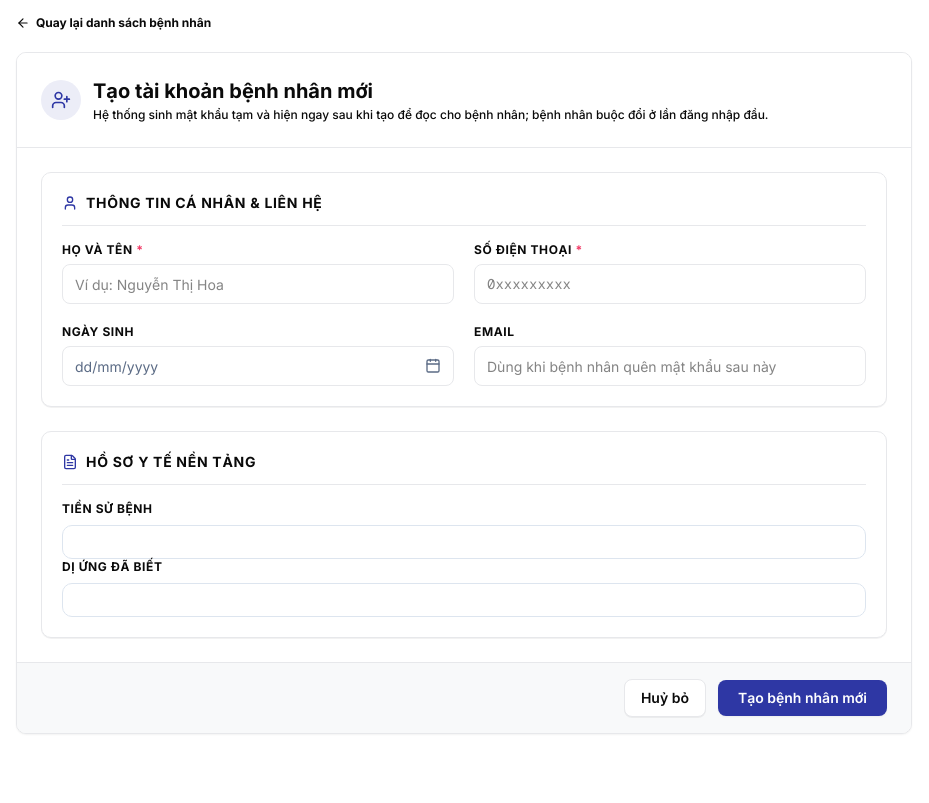
Test: PatientAccountForm › chặn gửi khi số điện thoại sai định dạng
Type "Lê Thị Hoa" into the field labelled "Họ và tên *".
click(258, 284); type("Lê Thị Hoa")  # box 62,264 -> 454,304
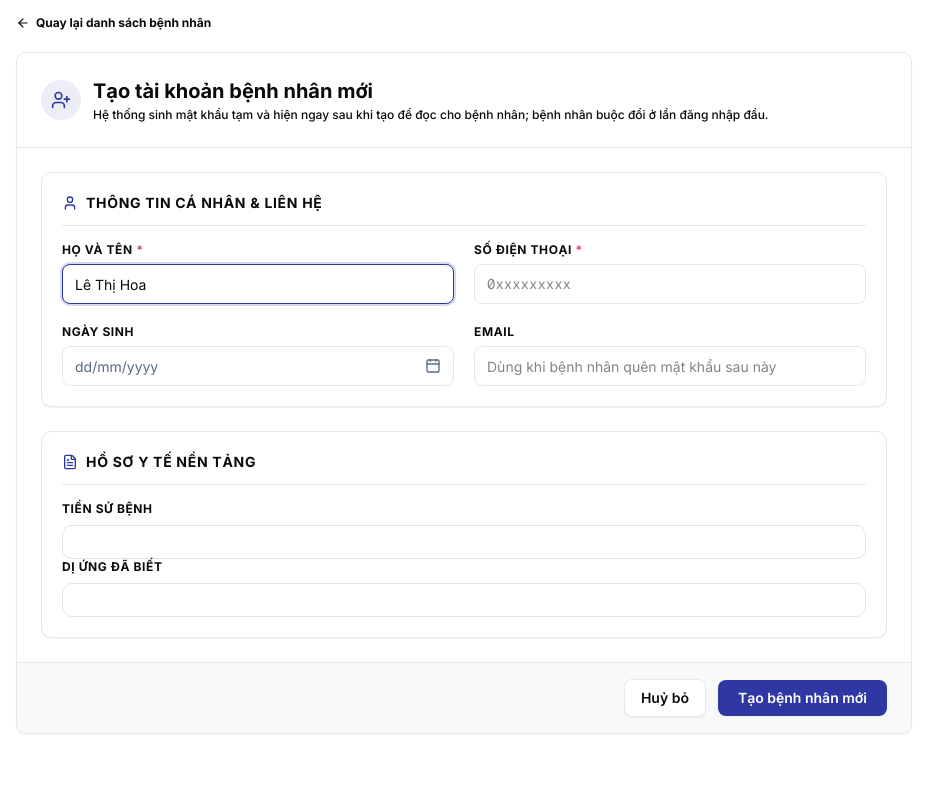
Type "123" into the field labelled "Số điện thoại *".
click(670, 284); type("123")  # box 474,264 -> 866,304
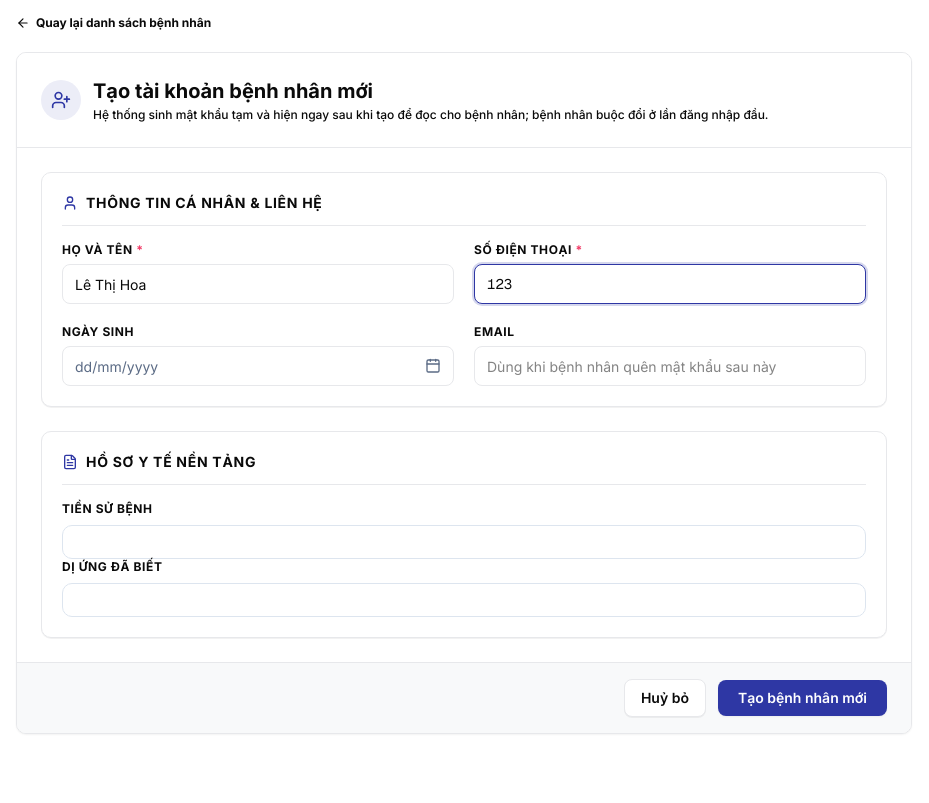
Click the button "Tạo bệnh nhân mới".
click(802, 698)  # box 718,680 -> 887,716
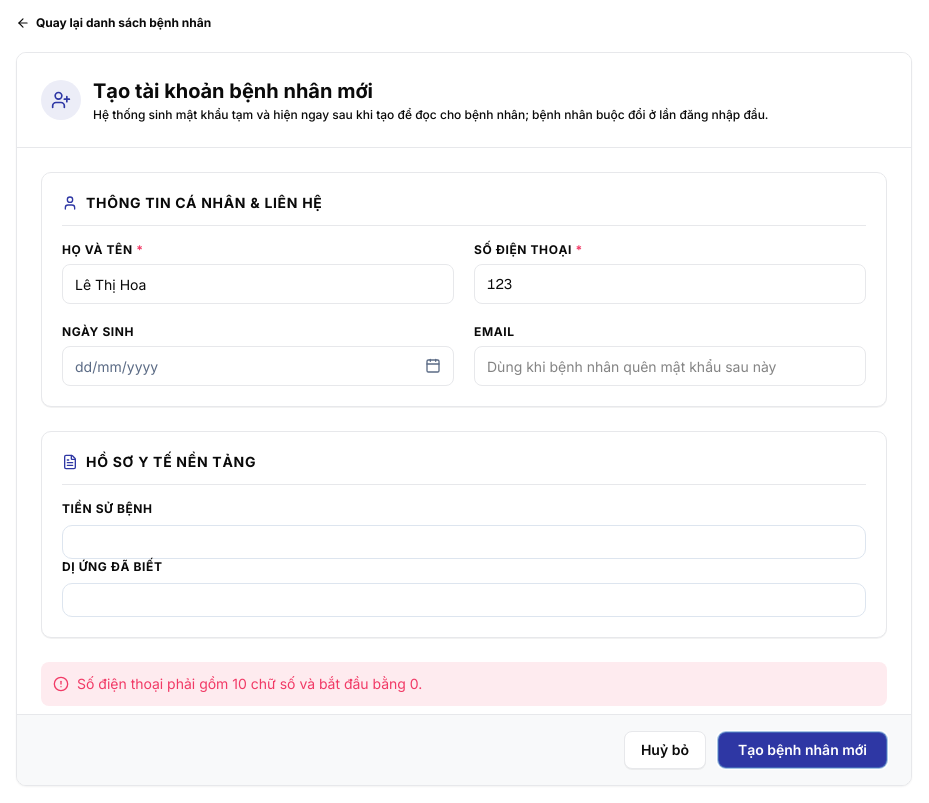
Expected: the message shows "Số điện thoại", 77,675 -> 422,692
